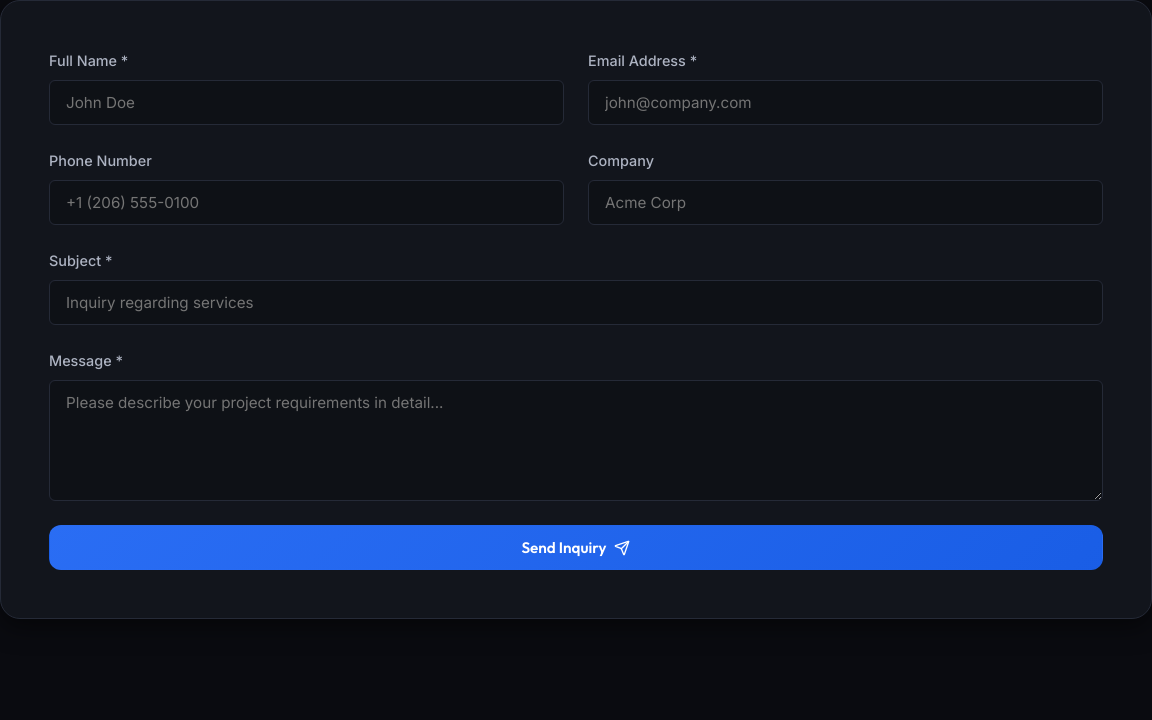
Test: ContactForm Component › displays an error if email format is invalid
Type "invalid-email-address" into the field labelled "Email Address *". click: (846,102)
box: [588,80,1103,125]
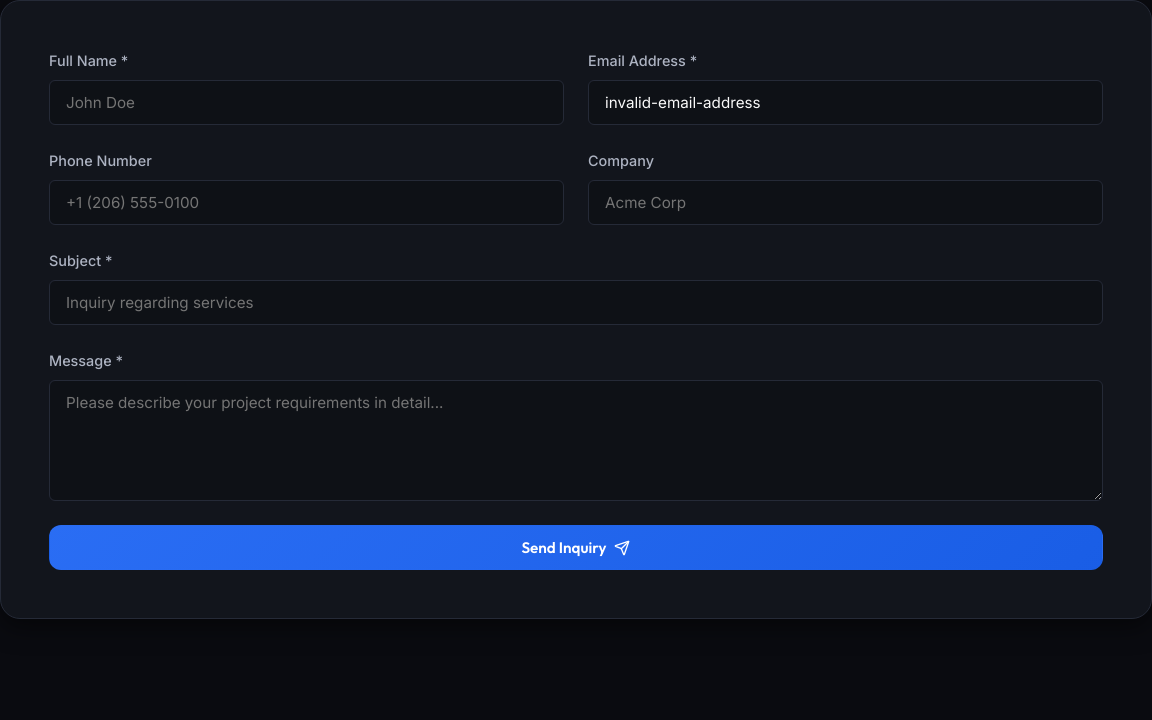
Leave the field labelled "Email Address *", box [588,80,1103,125]
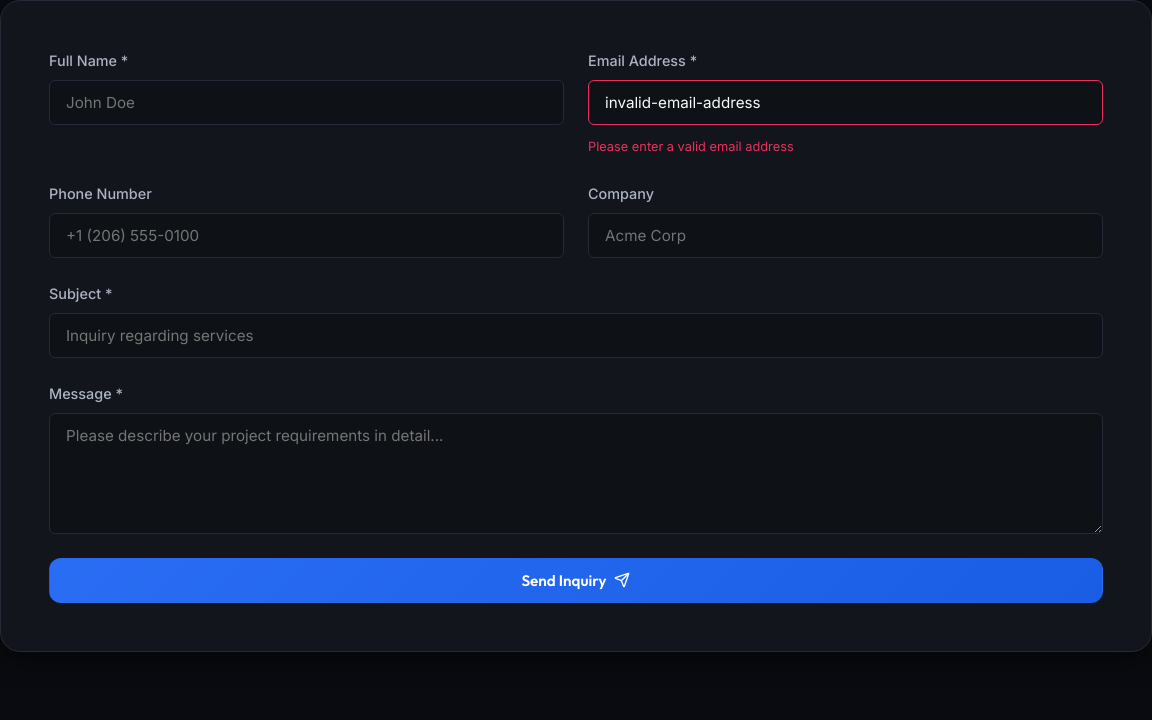
Check: the text "Please enter a valid email address" is shown, box [588,139,794,154]
